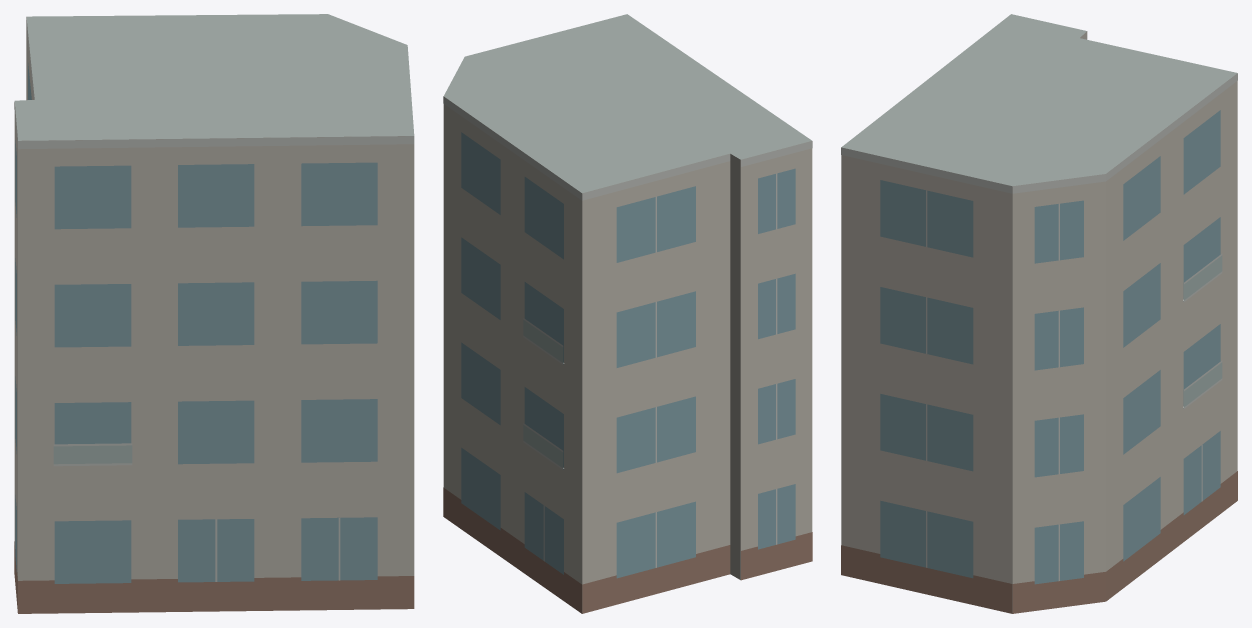
The model's file is survey-upis-32665872.glb.
3 views of the same model, side by side, from view 1: azimuth 30°, elevation 25°; view 2: azimuth 150°, elevation 25°; view 3: azimuth 270°, elevation 25° (orthographic). The views are drawn at different scales.
Visible parts, largest first — view 1: survey-upis-32665872.tmp; view 2: survey-upis-32665872.tmp; view 3: survey-upis-32665872.tmp.
Boxes of the visible parts, left/top/right/bottom form: survey-upis-32665872.tmp: left=14, top=14, right=414, bottom=613; survey-upis-32665872.tmp: left=443, top=14, right=812, bottom=613; survey-upis-32665872.tmp: left=841, top=14, right=1237, bottom=613.
Bounding box in the file's own units: 11.93 × 13.8 × 11.61.
